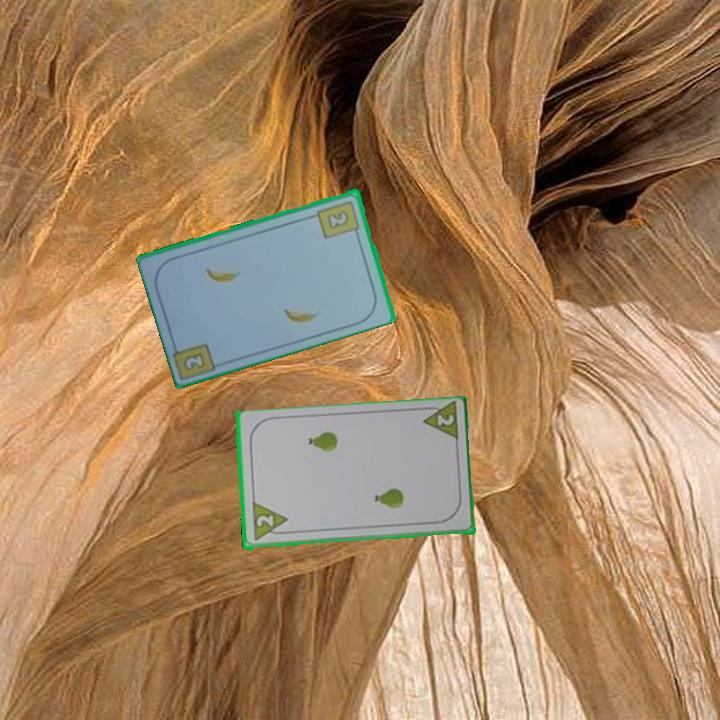2b: (314, 197, 363, 241), (182, 351, 206, 371)
2p: (417, 401, 461, 445), (248, 500, 291, 544)
